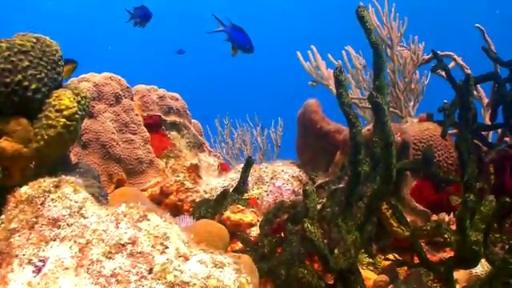Fish: (207, 15, 254, 55), (125, 5, 152, 27), (63, 59, 78, 80), (175, 48, 185, 55), (308, 80, 317, 87)
